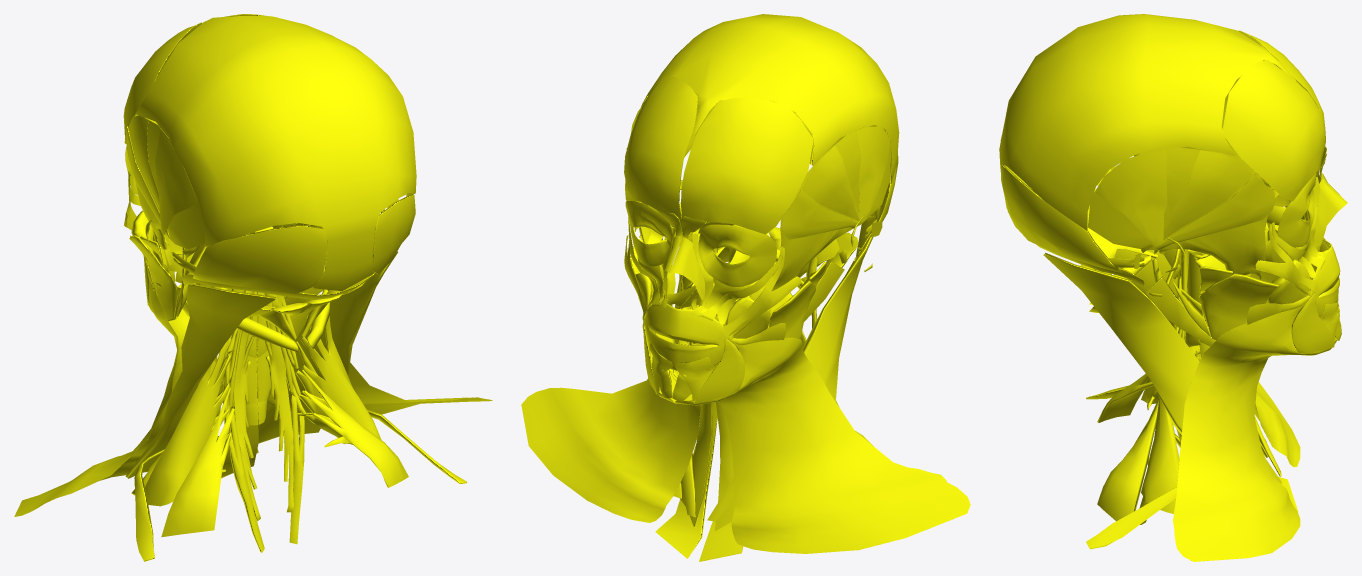
Rendered from Muscular.glb.
3 views of the same model, side by side, from view 1: azimuth 30°, elevation 25°; view 2: azimuth 150°, elevation 25°; view 3: azimuth 270°, elevation 25° (orthographic). The views are drawn at different scales.
Parts seen in each view (by area): view 1: epicranial_aponeurosis, left_occipitalis, left_sternocleidomastoid, left_middle_scalene, left_posterior_scalene, right_sternocleidomastoid, left_platysma, right_middle_scalene, right_posterior_scalene, left_temporalis, left_auricularis_superior, vertical_intermediate_part_of_right_longus_colli (+17 smaller); view 2: left_platysma, epicranial_aponeurosis, right_platysma, left_frontalis, right_frontalis, left_sternocleidomastoid, orbicularis_oris, left_temporalis, left_orbicularis_oculi, left_temporoparietalis, left_auricularis_superior, left_auricularis_anterior (+15 smaller); view 3: epicranial_aponeurosis, right_platysma, right_frontalis, right_sternocleidomastoid, right_temporalis, right_occipitalis, right_auricularis_superior, right_temporoparietalis, right_masseter, right_auricularis_anterior, right_posterior_scalene, right_middle_scalene (+18 smaller).
Boxes of the visible parts, <box> form: epicranial_aponeurosis: <box>135,16,416,291</box>; left_occipitalis: <box>193,224,327,293</box>; left_sternocleidomastoid: <box>126,283,276,478</box>; left_middle_scalene: <box>145,340,231,506</box>; left_posterior_scalene: <box>161,387,234,537</box>; right_sternocleidomastoid: <box>258,251,397,440</box>; left_platysma: <box>14,264,189,516</box>; right_middle_scalene: <box>300,315,381,447</box>; right_posterior_scalene: <box>302,370,408,487</box>; left_temporalis: <box>129,115,205,250</box>; left_auricularis_superior: <box>155,131,197,234</box>; vertical_intermediate_part_of_right_longus_colli: <box>265,302,293,512</box>; left_platysma: <box>675,337,970,553</box>; epicranial_aponeurosis: <box>635,14,899,183</box>; right_platysma: <box>521,320,700,522</box>; left_frontalis: <box>681,98,813,234</box>; right_frontalis: <box>624,77,697,229</box>; left_sternocleidomastoid: <box>707,212,875,521</box>; orbicularis_oris: <box>644,303,731,370</box>; left_temporalis: <box>772,126,890,290</box>; left_orbicularis_oculi: <box>698,224,776,286</box>; left_temporoparietalis: <box>802,146,858,220</box>; left_auricularis_superior: <box>856,126,890,222</box>; left_auricularis_anterior: <box>781,190,858,239</box>; epicranial_aponeurosis: <box>999,14,1296,230</box>; right_platysma: <box>1173,300,1337,561</box>; right_frontalis: <box>1222,59,1325,201</box>; right_sternocleidomastoid: <box>1043,252,1281,483</box>; right_temporalis: <box>1088,147,1274,279</box>; right_occipitalis: <box>1000,165,1121,272</box>; right_auricularis_superior: <box>1096,149,1167,245</box>; right_temporoparietalis: <box>1163,150,1251,239</box>; right_masseter: <box>1199,266,1279,340</box>; right_auricularis_anterior: <box>1155,174,1275,249</box>; right_posterior_scalene: <box>1097,397,1158,521</box>; right_middle_scalene: <box>1141,396,1179,513</box>.
Bounding box in the file's own units: 0.0852 × 0.0876 × 0.0562.
Materials: 5 (5 with a texture image).
